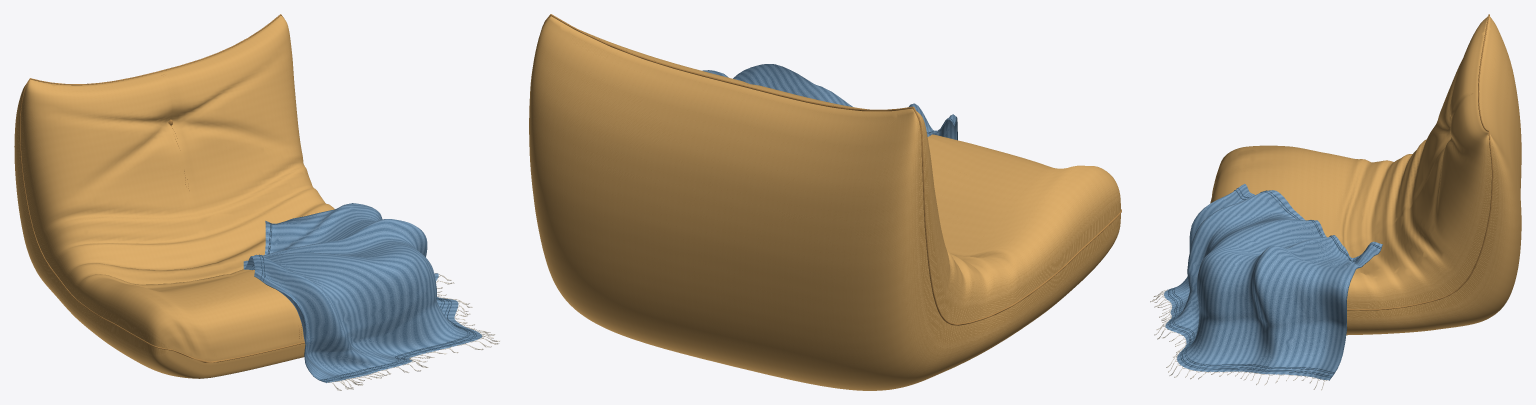
The model's file is floor-sofa.glb.
The picture shows the model from 3 angles, left to right: view 1: azimuth 30°, elevation 25°; view 2: azimuth 150°, elevation 25°; view 3: azimuth 270°, elevation 25°; orthographic projection. The views are drawn at different scales.
Visible parts, largest first — view 1: Linen_floor_sofa; view 2: Linen_floor_sofa; view 3: Linen_floor_sofa.
Part boxes in pixels (x1,y1,x2,y2): Linen_floor_sofa: (14,14,499,390); Linen_floor_sofa: (529,14,1121,390); Linen_floor_sofa: (1150,14,1521,390).
Size of the model in its own units: 1.53 by 0.9338 by 1.43.
Materials: 6 (2 with a texture image).
